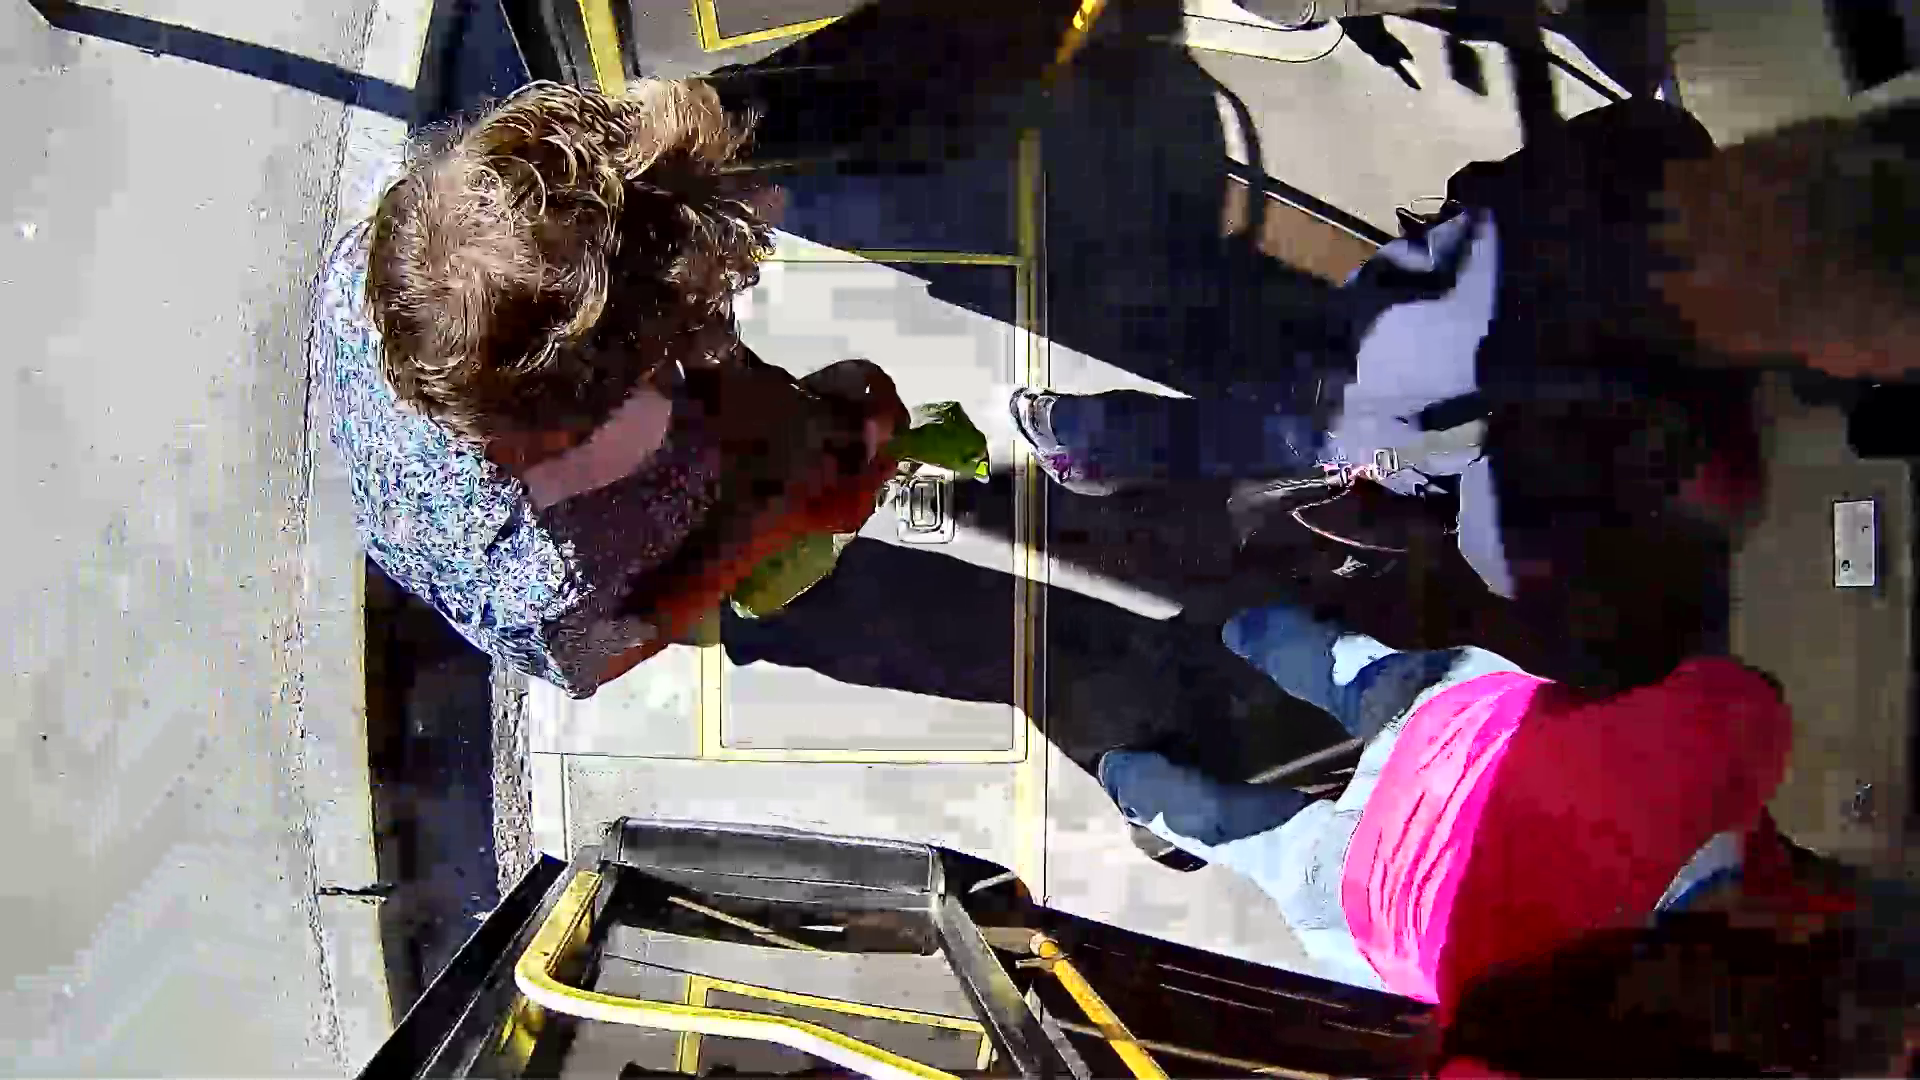person: (311, 94, 1032, 697)
